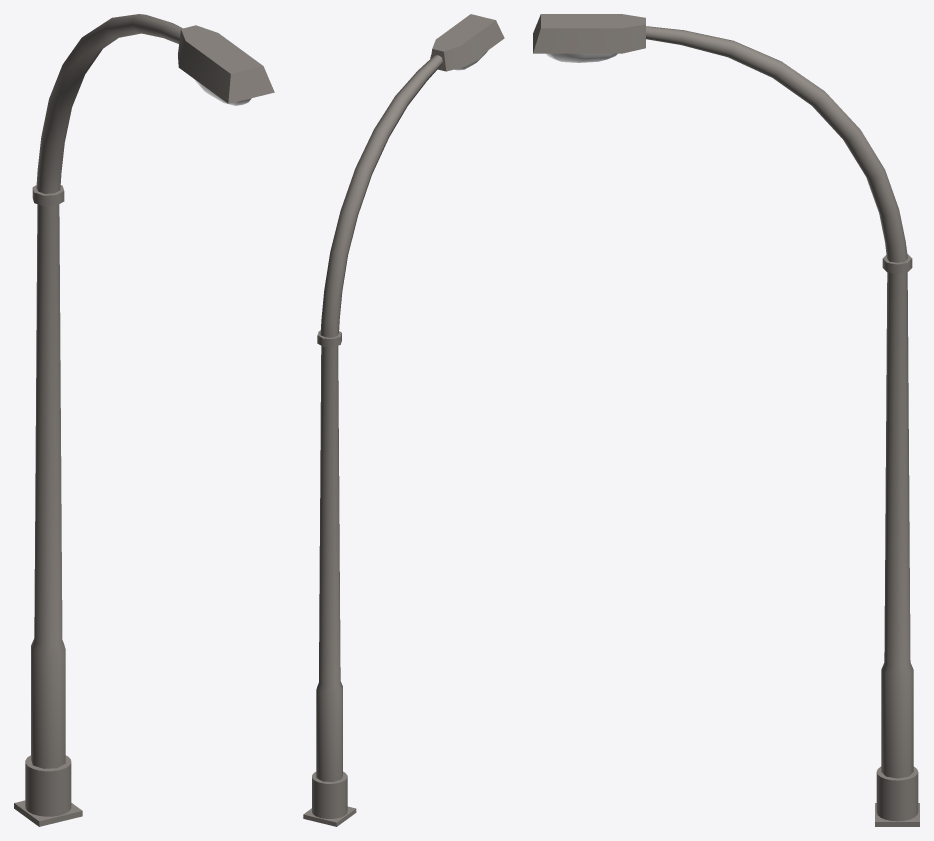
The model's file is prop_streetlights.glb.
The picture shows the model from 3 angles, left to right: view 1: azimuth 30°, elevation 25°; view 2: azimuth 150°, elevation 25°; view 3: azimuth 270°, elevation 25°; orthographic projection. The views are drawn at different scales.
Parts seen in each view (by area): view 1: StreetLights; view 2: StreetLights; view 3: StreetLights.
Boxes of the visible parts, <box> form: StreetLights: <box>14,14,274,826</box>; StreetLights: <box>303,14,504,826</box>; StreetLights: <box>533,14,919,826</box>.
Size of the model in its own units: 0.3643 by 6.64 by 2.93.
Materials: 2 (1 with a texture image).
